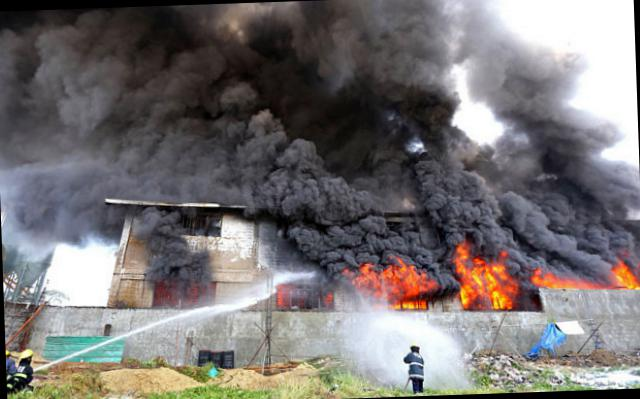fire: (341, 245, 639, 311)
smoke: (261, 0, 639, 257), (0, 2, 263, 207), (1, 205, 120, 247), (122, 202, 192, 250), (152, 249, 213, 294)
